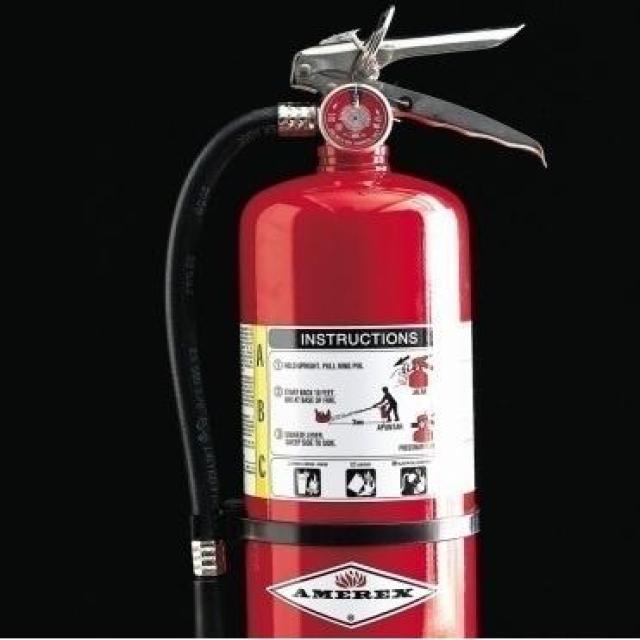fire_extinguisher: (153, 0, 553, 638)
